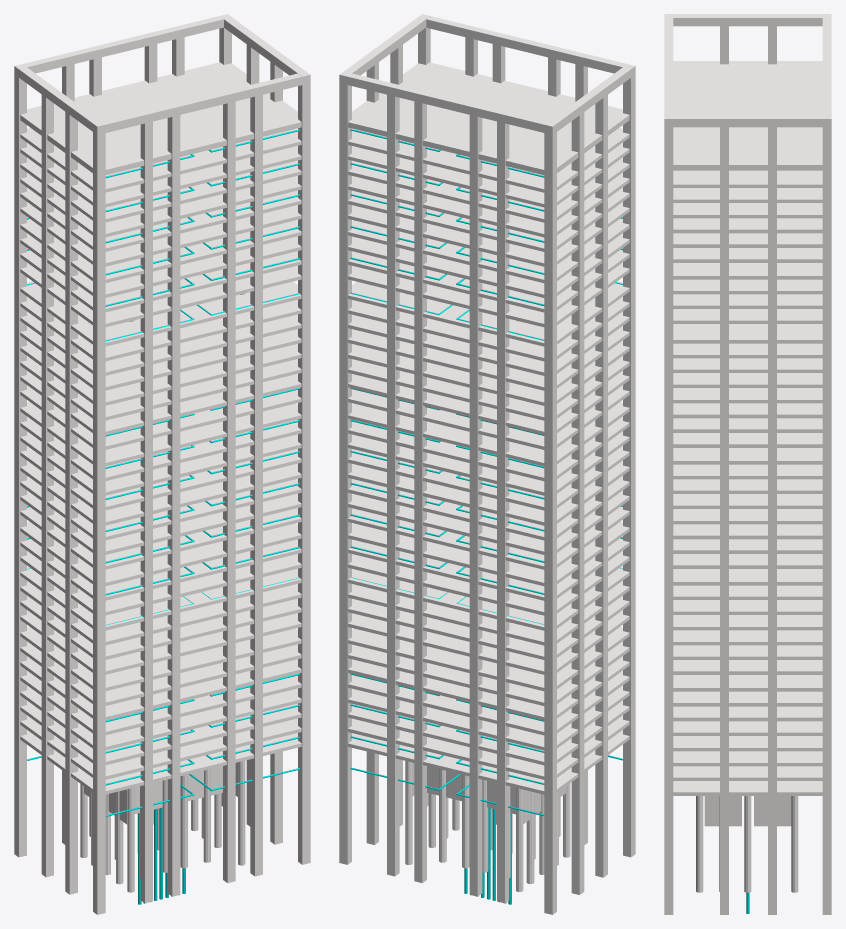
The model's file is grattacielo_impianti+struttura prova.fbx.
3 renders of one model, left to right at view 1: azimuth 30°, elevation 25°; view 2: azimuth 150°, elevation 25°; view 3: azimuth 270°, elevation 25°, orthographic.
Parts seen in each view (by area): view 1: pasted__pCube332, pasted__impianti; view 2: pasted__pCube332, pasted__impianti; view 3: pasted__pCube332.
Boxes of the visible parts, x1,y1,x2,y2 form: pasted__pCube332: (14,14,310,914); pasted__impianti: (27,129,299,904); pasted__pCube332: (339,14,635,914); pasted__impianti: (350,129,622,904); pasted__pCube332: (664,14,831,914).
Size of the model in its own units: 296 by 1100 by 200.
Materials: 2 (1 with a texture image).
